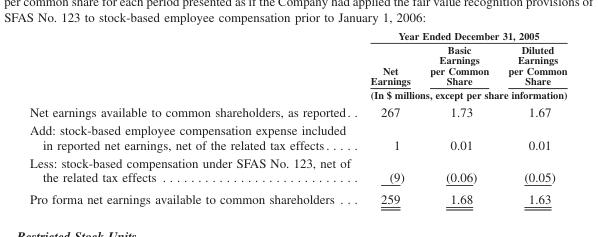table: (28, 29, 566, 205)
table column: (28, 29, 359, 205), (419, 29, 497, 205), (497, 29, 566, 205), (359, 29, 419, 205)
table column header: (28, 29, 566, 102)
table row: (28, 42, 566, 87), (28, 153, 566, 187), (28, 120, 566, 153), (28, 102, 566, 120), (28, 187, 566, 205), (28, 87, 566, 102), (28, 29, 566, 42)
table spanning cell: (359, 87, 566, 102), (359, 29, 566, 42)
